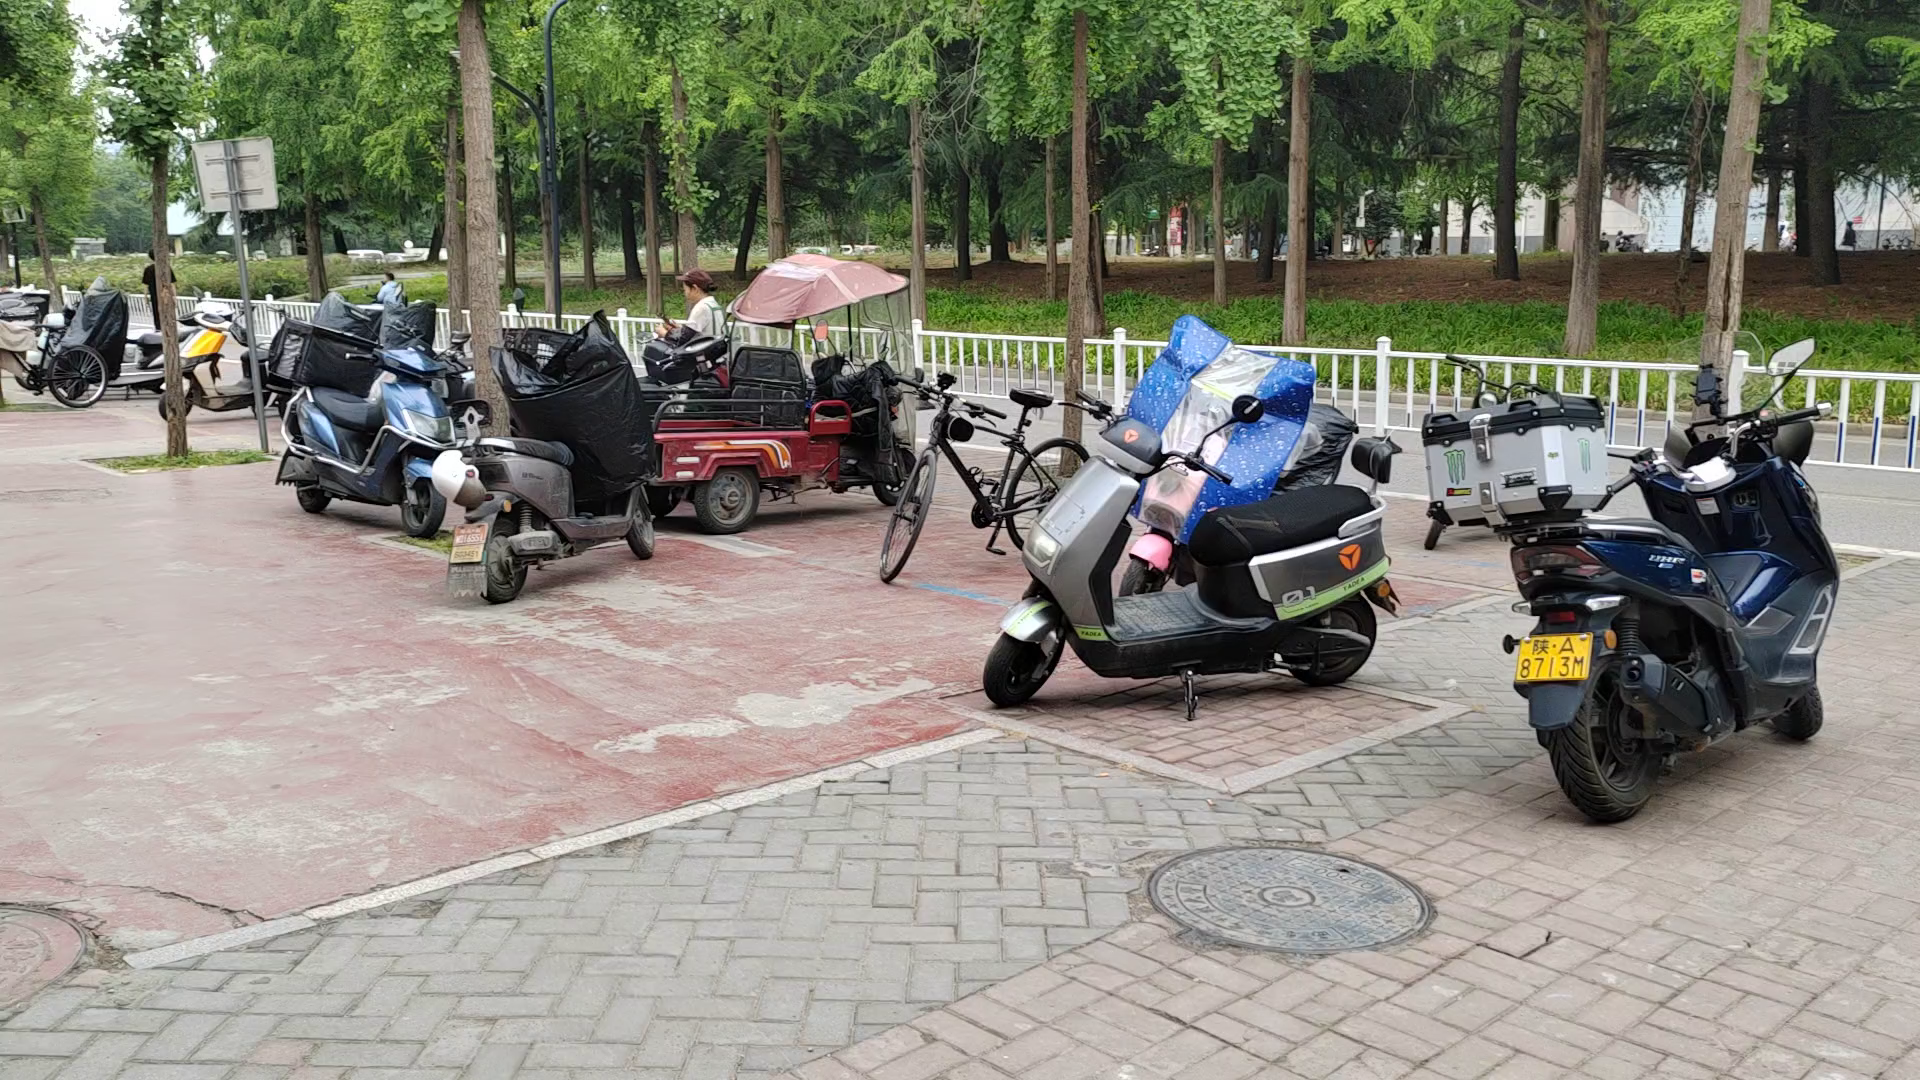others: (1424, 359, 1888, 794), (1005, 352, 1420, 727), (430, 328, 673, 592), (270, 272, 454, 542), (889, 355, 1073, 580), (51, 268, 232, 407), (164, 290, 266, 430)
